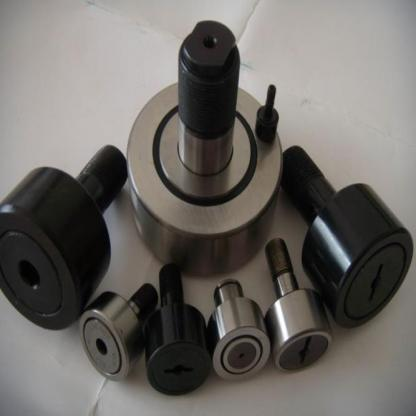FOD: (124, 75, 284, 278)
